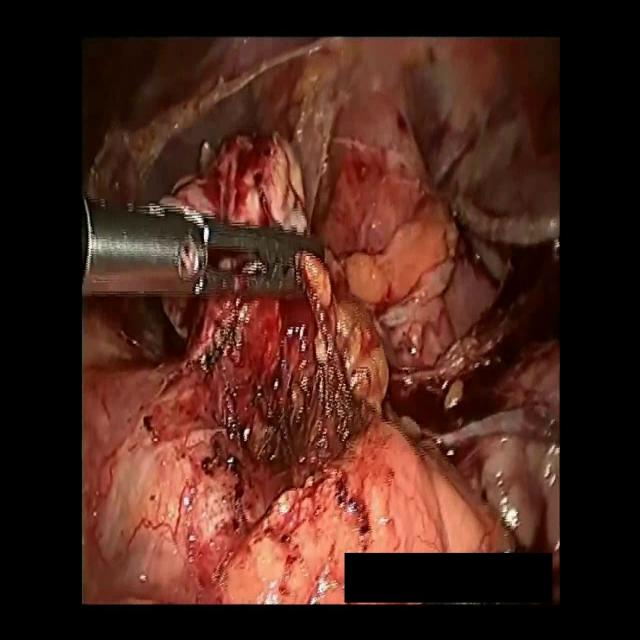surgical-area: (82, 36, 560, 608)
surgical-tool: (82, 198, 326, 305)
